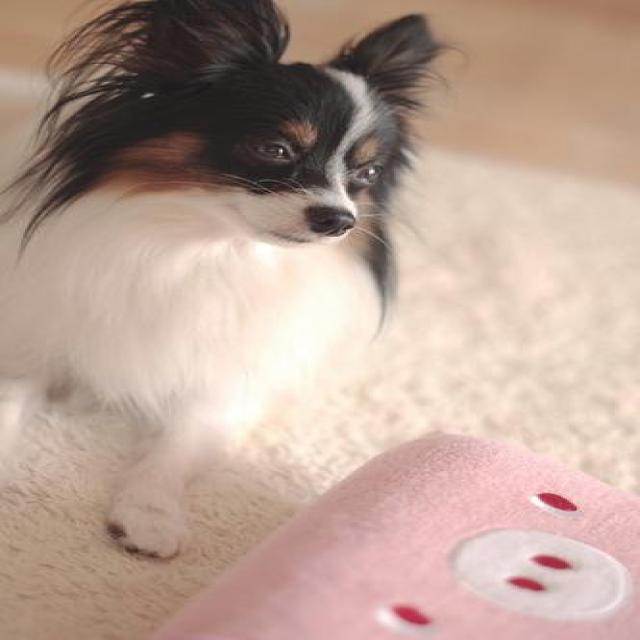papillon: (0, 1, 473, 560)
